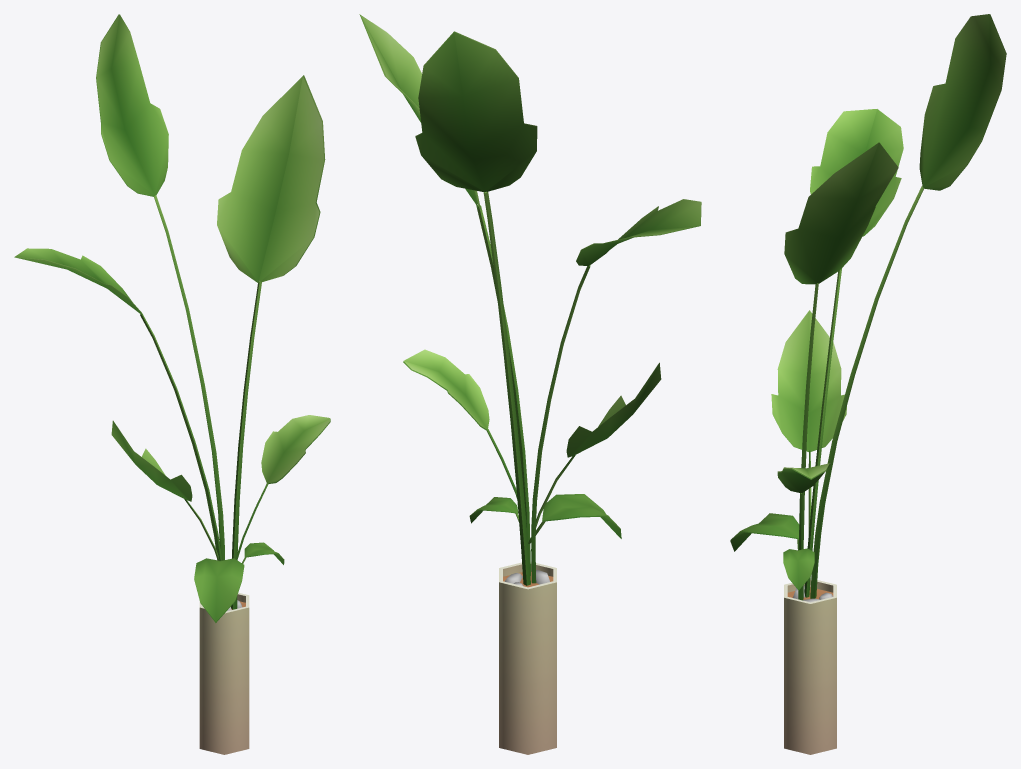
File: CR_Pot_002.FBX
3 views of the same model, side by side, from view 1: azimuth 30°, elevation 25°; view 2: azimuth 150°, elevation 25°; view 3: azimuth 270°, elevation 25° (orthographic). The views are drawn at different scales.
Bounding box in the file's own units: 33.97 × 75.07 × 26.22.
